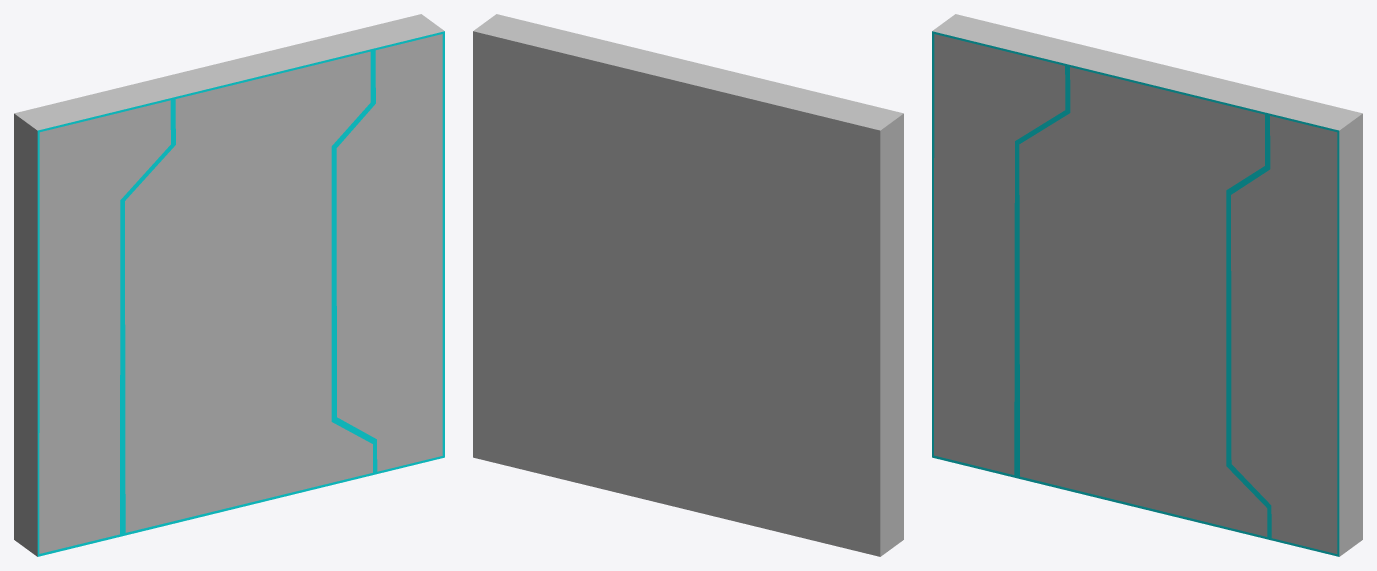
The model's file is Wall_007.fbx.
3 views of the same model, side by side, from view 1: azimuth 30°, elevation 25°; view 2: azimuth 150°, elevation 25°; view 3: azimuth 330°, elevation 25° (orthographic).
Visible parts, largest first — view 1: Wall_007; view 2: Wall_007; view 3: Wall_007.
Part boxes in pixels (x1,y1,x2,y2): Wall_007: (14,14,444,556); Wall_007: (473,14,903,556); Wall_007: (932,14,1362,556).
Bounding box in the file's own units: 300 × 300 × 30.
